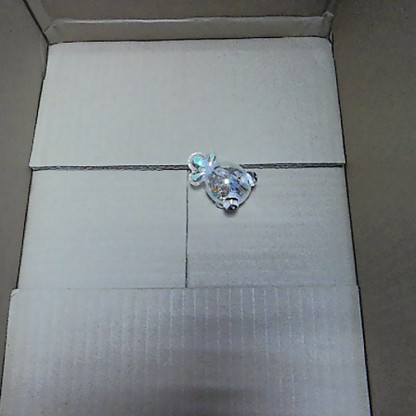whitefish: (182, 146, 259, 215)
